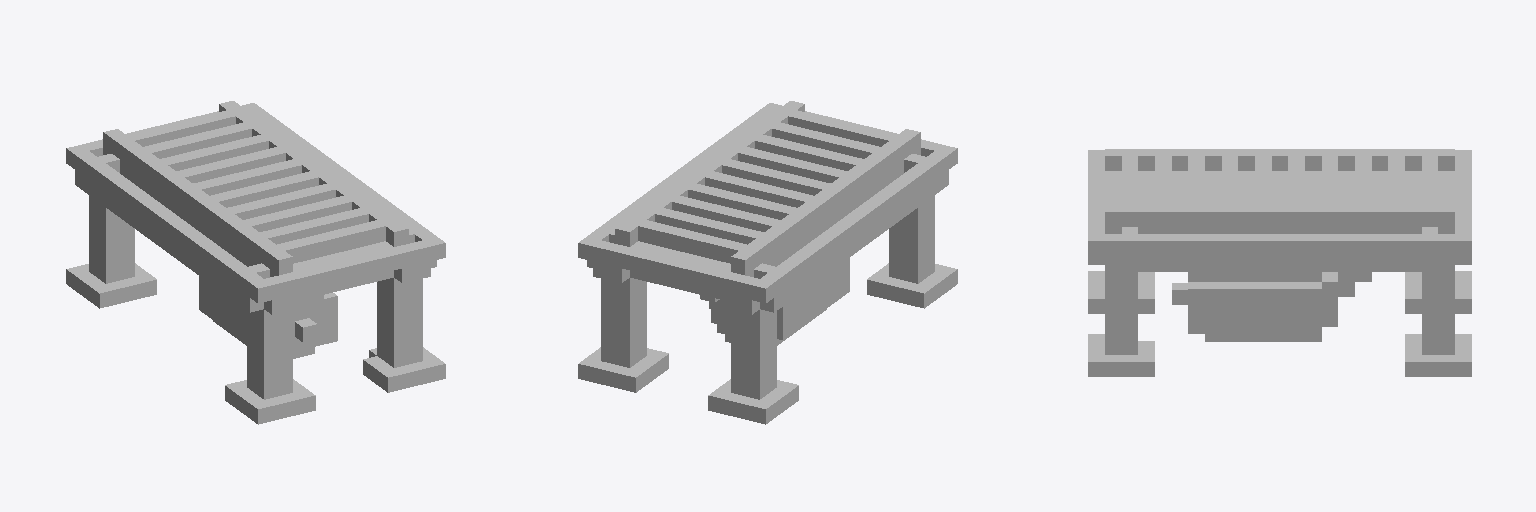
Rendered from Esteira 3.obj.
The picture shows the model from 3 angles: view 1: azimuth 30°, elevation 25°; view 2: azimuth 150°, elevation 25°; view 3: azimuth 270°, elevation 25°; orthographic projection.
Parts seen in each view (by area): view 1: object 1; view 2: object 1; view 3: object 1.
Boxes of the visible parts, x1=… form: object 1: x1=66, y1=101, x2=445, y2=424; object 1: x1=578, y1=101, x2=957, y2=424; object 1: x1=1088, y1=149, x2=1471, y2=376.
Bounding box in the file's own units: 1.3 × 1 × 2.3.